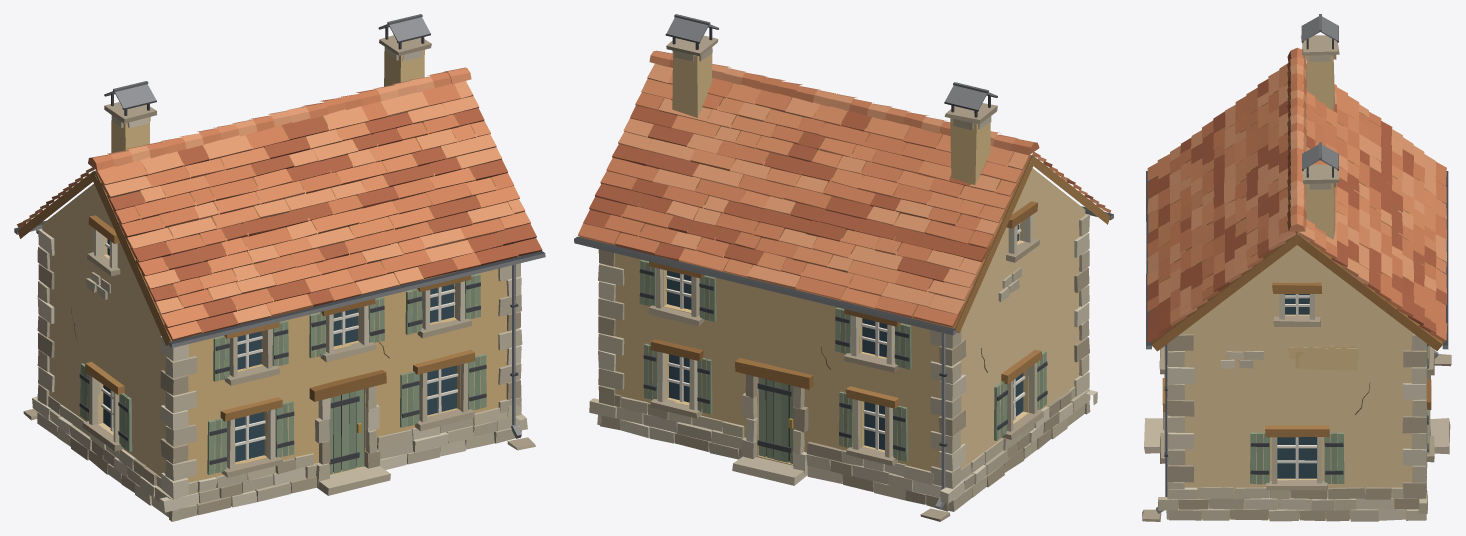
Rendered from ferme-logis.glb.
3 views of the same model, side by side, from view 1: azimuth 30°, elevation 25°; view 2: azimuth 150°, elevation 25°; view 3: azimuth 270°, elevation 25° (orthographic). The views are drawn at different scales.
Parts seen in each view (by area): view 1: ferme-logis; view 2: ferme-logis; view 3: ferme-logis.
Part boxes in pixels (<box>): ferme-logis: <box>14,14,545,521</box>; ferme-logis: <box>574,14,1113,521</box>; ferme-logis: <box>1142,14,1451,521</box>.
Size of the model in its own units: 9.84 by 9.27 by 7.35.
